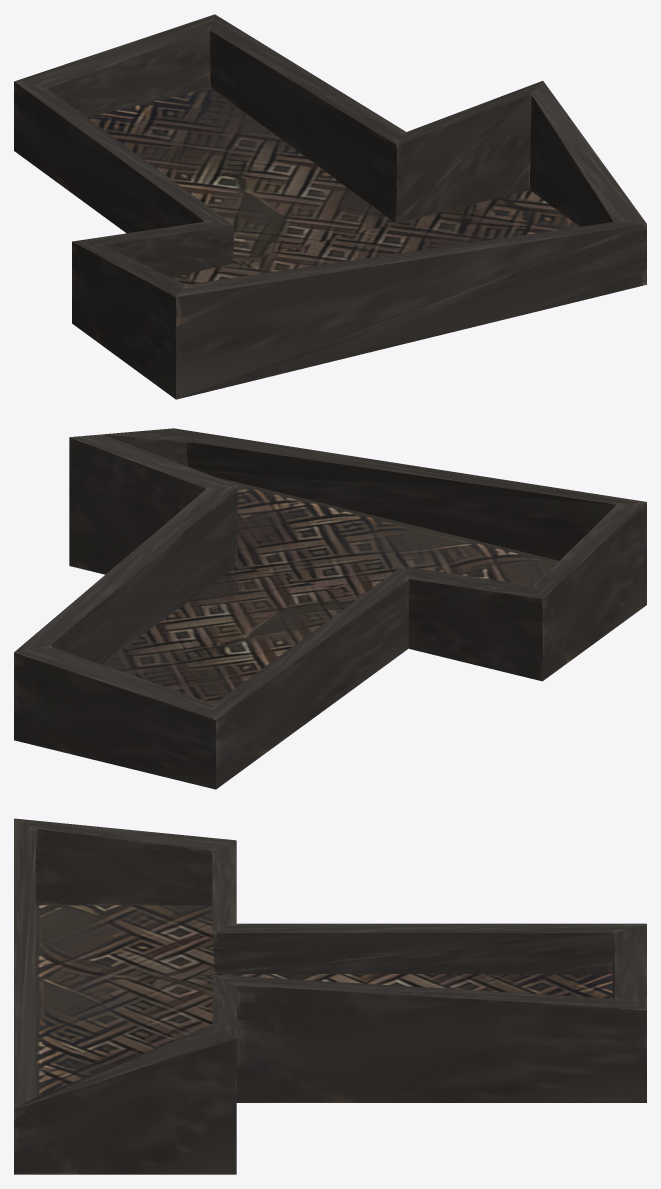
File: villachurchburn.gltf
3 renders of one model, top to bottom at view 1: azimuth 30°, elevation 25°; view 2: azimuth 150°, elevation 25°; view 3: azimuth 270°, elevation 25°, orthographic. The views are drawn at different scales.
Visible parts, largest first — view 1: villachurchburn_atomic0; view 2: villachurchburn_atomic0; view 3: villachurchburn_atomic0.
Boxes of the visible parts, left/top/right/bottom form: villachurchburn_atomic0: left=14, top=14, right=646, bottom=399; villachurchburn_atomic0: left=14, top=428, right=646, bottom=789; villachurchburn_atomic0: left=14, top=818, right=646, bottom=1174.
Bounding box in the file's own units: 43.52 × 11.31 × 47.29.
Materials: 2 (2 with a texture image).
